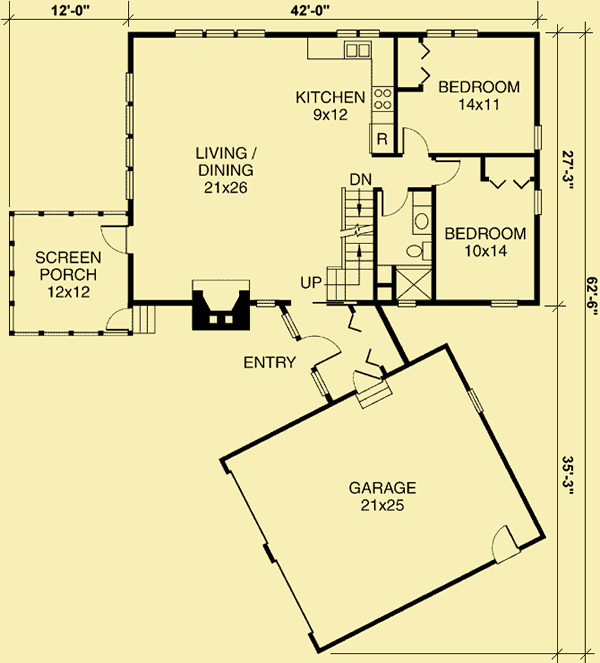door: (297, 334, 343, 367), (490, 522, 522, 566), (430, 158, 462, 189), (101, 221, 131, 254), (380, 188, 408, 216), (401, 125, 426, 156), (102, 308, 134, 329)
large_sink: (403, 238, 435, 267)
small_sink: (411, 203, 433, 235)
stairs: (321, 188, 377, 303), (356, 378, 393, 410)
twin_sink: (341, 39, 374, 61)
windows: (122, 72, 141, 202), (171, 27, 270, 41), (424, 27, 483, 43), (333, 27, 383, 42), (465, 384, 486, 418), (309, 368, 333, 397), (279, 311, 302, 336), (486, 296, 520, 310), (531, 186, 545, 215), (534, 124, 544, 151)
